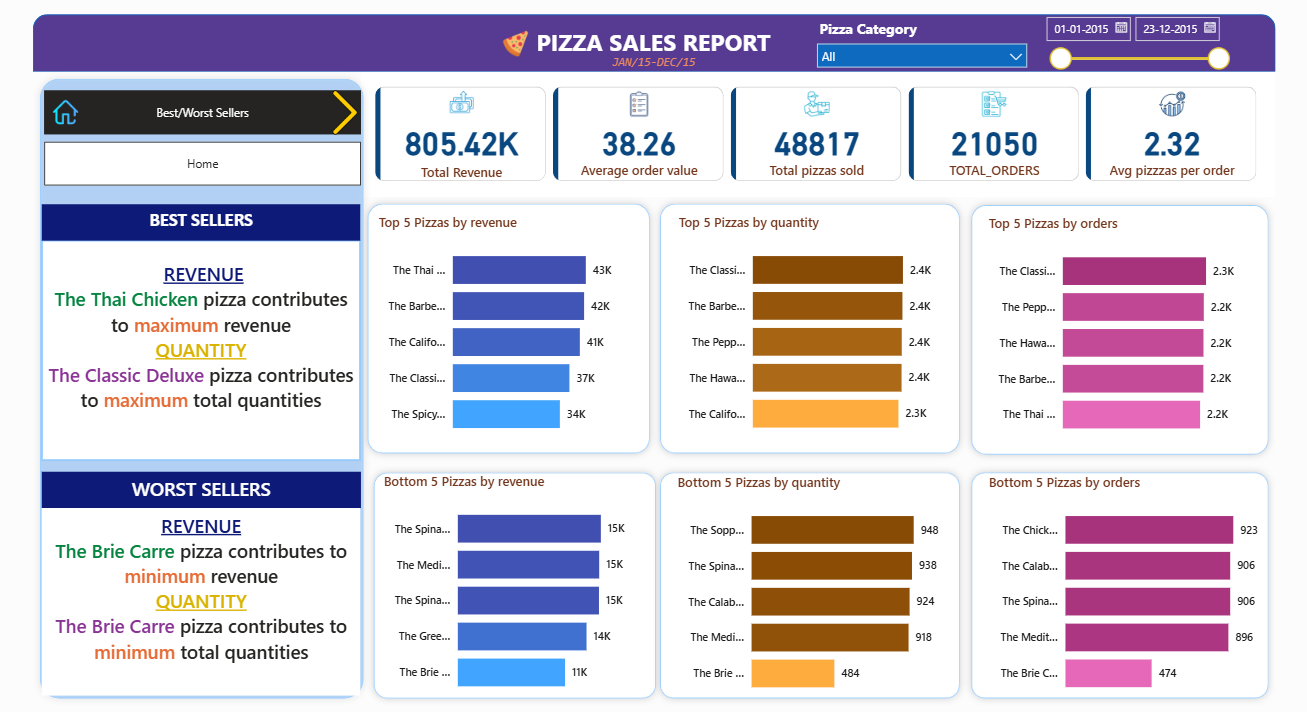

This screenshot's page, from the dashboard's own definition file:
{"tool":"powerbi","page":{"name":"Best/Worst Sellers","canvas":[1500,820],"ordinal":1},"visuals":[{"type":"cardVisual","fields":{"Data":["public pizza_sales.Total Revenue","public pizza_sales.Average order value","public pizza_sales.Total pizzas sold","public pizza_sales.TOTAL_ORDERS","public pizza_sales.Avg pizzzas per order"]},"box":[414.3,84.3,1045.7,142.9],"z":0},{"type":"shape","box":[40,18.6,1420,65.7],"z":1000},{"type":"shape","box":[40,85,385.8,724.2],"z":2000},{"type":"textbox","box":[601.4,27.1,295.7,50],"z":3000},{"type":"textbox","box":[692.5,59.2,113.3,37.5],"z":4000},{"type":"image","box":[561.4,37.1,60,30],"z":5000},{"type":"shape","box":[414.3,227.1,338.6,301.4],"z":6000},{"type":"textbox","box":[50,277.1,364.3,251.4],"z":7000},{"type":"textbox","box":[50,235.7,364.3,41.4],"z":8000},{"type":"textbox","box":[50,541.8,364.5,41.8],"z":9000},{"type":"textbox","box":[50,582.9,364.3,214.3],"z":10000},{"type":"slicer","fields":{"Values":["public pizza_sales.pizza_category"]},"box":[925.7,18.6,260,65.7],"z":11000},{"type":"slicer","fields":{"Values":["public pizza_sales.order_date"]},"box":[1185.7,11.4,234.3,84.3],"z":12000},{"type":"shape","box":[748.6,227.1,358.6,301.4],"z":13000},{"type":"shape","box":[1104.3,228.6,355.7,301.4],"z":14000},{"type":"shape","box":[421.4,534.3,338.6,274.3],"z":15000},{"type":"shape","box":[748.6,534.3,358.6,274.3],"z":16000},{"type":"shape","box":[1104.3,534.3,355.7,274.3],"z":17000},{"type":"barChart","title":"Top 5 Pizzas by revenue","fields":{"Category":["public pizza_sales.pizza_name"],"Y":["public pizza_sales.Total Revenue"]},"box":[430,245.7,308.6,268.6],"z":18000},{"type":"barChart","title":"Bottom 5 Pizzas by revenue","fields":{"Category":["public pizza_sales.pizza_name"],"Y":["public pizza_sales.Total Revenue"]},"box":[436,542,309,268],"z":18001},{"type":"barChart","title":"Top 5 Pizzas by quantity","fields":{"Category":["public pizza_sales.pizza_name"],"Y":["public pizza_sales.Total pizzas sold"]},"box":[773,245,309,268],"z":18002},{"type":"barChart","title":"Bottom 5 Pizzas by quantity","fields":{"Category":["public pizza_sales.pizza_name"],"Y":["public pizza_sales.Total pizzas sold"]},"box":[770.8,542.3,309.2,267.7],"z":18003},{"type":"barChart","title":"Top 5 Pizzas by orders","fields":{"Category":["public pizza_sales.pizza_name"],"Y":["public pizza_sales.TOTAL_ORDERS"]},"box":[1127.5,247.5,310,267.5],"z":18004},{"type":"barChart","title":"Bottom 5 Pizzas by orders","fields":{"Category":["public pizza_sales.pizza_name"],"Y":["public pizza_sales.TOTAL_ORDERS"]},"box":[1127.5,542.5,318.8,267.5],"z":18005},{"type":"pageNavigator","box":[52.5,106.2,362.5,50],"z":18006},{"type":"pageNavigator","box":[52.5,165,362.5,50],"z":18007},{"type":"image","box":[371.2,106.2,50,50],"z":18008},{"type":"image","box":[62.5,106.2,28.8,50],"z":18009}]}

Visuals, with their boxes in screenshot pixels (x1, y1, x2, y2), scaled from the page's 1500x820 canvas onto the 1307x712 screenshot:
cardVisual - public pizza_sales.Total Revenue x public pizza_sales.Average order value: x1=361, y1=73, x2=1272, y2=197
shape: x1=35, y1=16, x2=1272, y2=73
shape: x1=35, y1=74, x2=371, y2=703
textbox: x1=524, y1=24, x2=782, y2=67
textbox: x1=603, y1=51, x2=702, y2=84
image: x1=489, y1=32, x2=541, y2=58
shape: x1=361, y1=197, x2=656, y2=459
textbox: x1=44, y1=241, x2=361, y2=459
textbox: x1=44, y1=205, x2=361, y2=241
textbox: x1=44, y1=470, x2=361, y2=507
textbox: x1=44, y1=506, x2=361, y2=692
slicer - public pizza_sales.pizza_category: x1=807, y1=16, x2=1033, y2=73
slicer - public pizza_sales.order_date: x1=1033, y1=10, x2=1237, y2=83
shape: x1=652, y1=197, x2=965, y2=459
shape: x1=962, y1=198, x2=1272, y2=460
shape: x1=367, y1=464, x2=662, y2=702
shape: x1=652, y1=464, x2=965, y2=702
shape: x1=962, y1=464, x2=1272, y2=702
"Top 5 Pizzas by revenue" barChart: x1=375, y1=213, x2=644, y2=447
"Bottom 5 Pizzas by revenue" barChart: x1=380, y1=471, x2=649, y2=703
"Top 5 Pizzas by quantity" barChart: x1=674, y1=213, x2=943, y2=445
"Bottom 5 Pizzas by quantity" barChart: x1=672, y1=471, x2=941, y2=703
"Top 5 Pizzas by orders" barChart: x1=982, y1=215, x2=1253, y2=447
"Bottom 5 Pizzas by orders" barChart: x1=982, y1=471, x2=1260, y2=703
pageNavigator: x1=46, y1=92, x2=362, y2=136
pageNavigator: x1=46, y1=143, x2=362, y2=187
image: x1=323, y1=92, x2=367, y2=136
image: x1=54, y1=92, x2=80, y2=136
